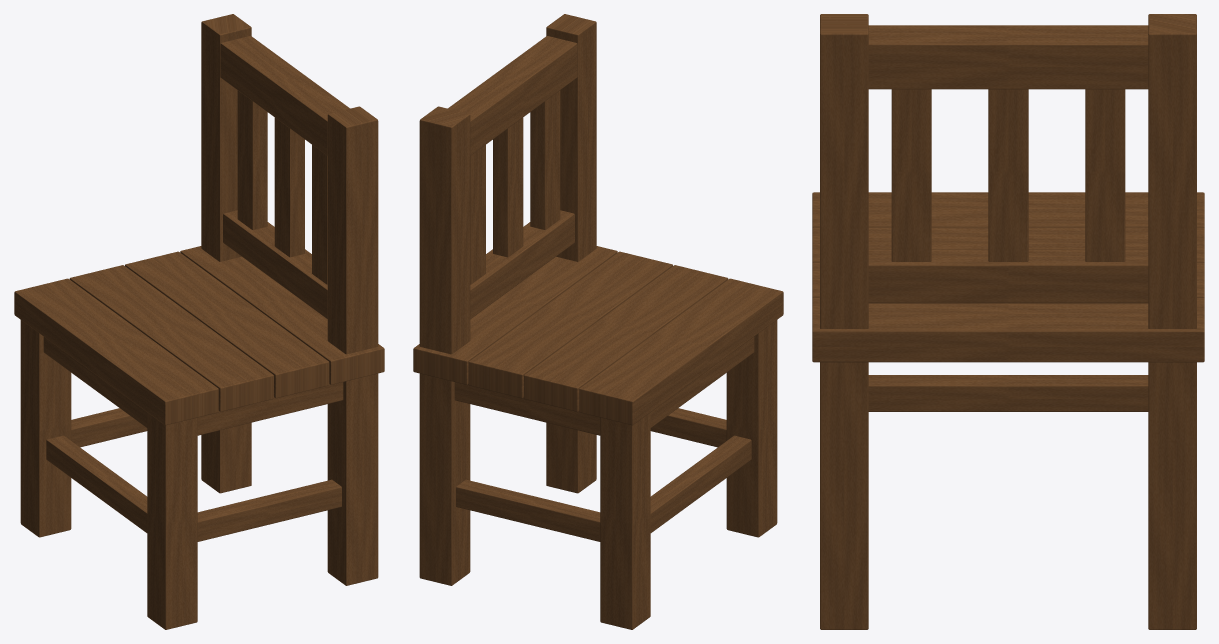
The model's file is chair.glb.
3 views of the same model, side by side, from view 1: azimuth 30°, elevation 25°; view 2: azimuth 150°, elevation 25°; view 3: azimuth 270°, elevation 25° (orthographic). The views are drawn at different scales.
Visible parts, largest first — view 1: Wooden desk chair; view 2: Wooden desk chair; view 3: Wooden desk chair.
Boxes of the visible parts, box(x1,y1,x2,y2) form: Wooden desk chair: box(14, 14, 384, 629); Wooden desk chair: box(413, 14, 783, 629); Wooden desk chair: box(812, 14, 1204, 629).
Size of the model in its own units: 0.426 by 0.85 by 0.507.
Materials: 7 (7 with a texture image).
